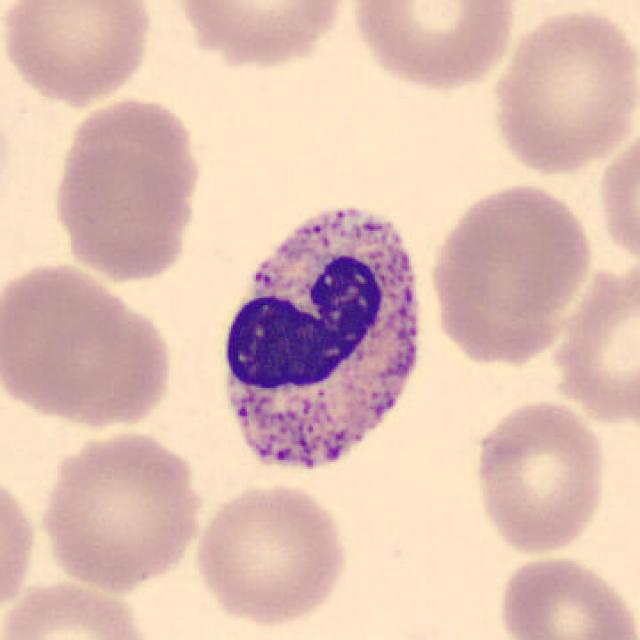Neutrophil: (205, 189, 439, 497)
RBC: (423, 176, 597, 365), (0, 257, 176, 428), (36, 427, 206, 596), (486, 2, 638, 178), (187, 478, 352, 628), (469, 395, 612, 559), (46, 137, 201, 284), (52, 93, 208, 224), (0, 0, 158, 108), (345, 0, 521, 95), (546, 258, 638, 430), (165, 0, 354, 71), (494, 552, 638, 640), (0, 576, 156, 640), (594, 118, 638, 279), (0, 463, 41, 628)
